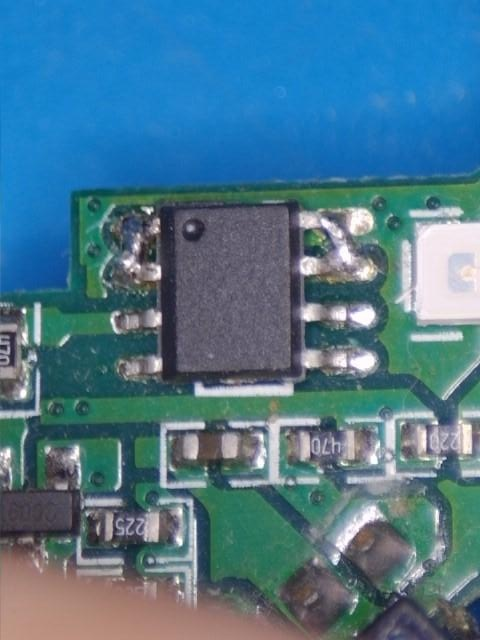pcb_defect: (299, 208, 373, 276), (112, 216, 162, 285)
